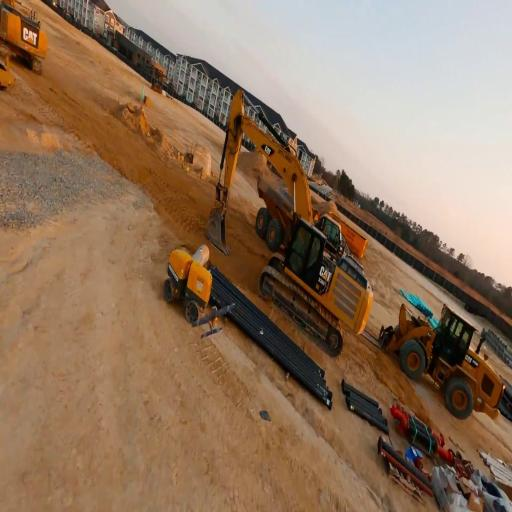uav: (192, 301, 236, 341)
